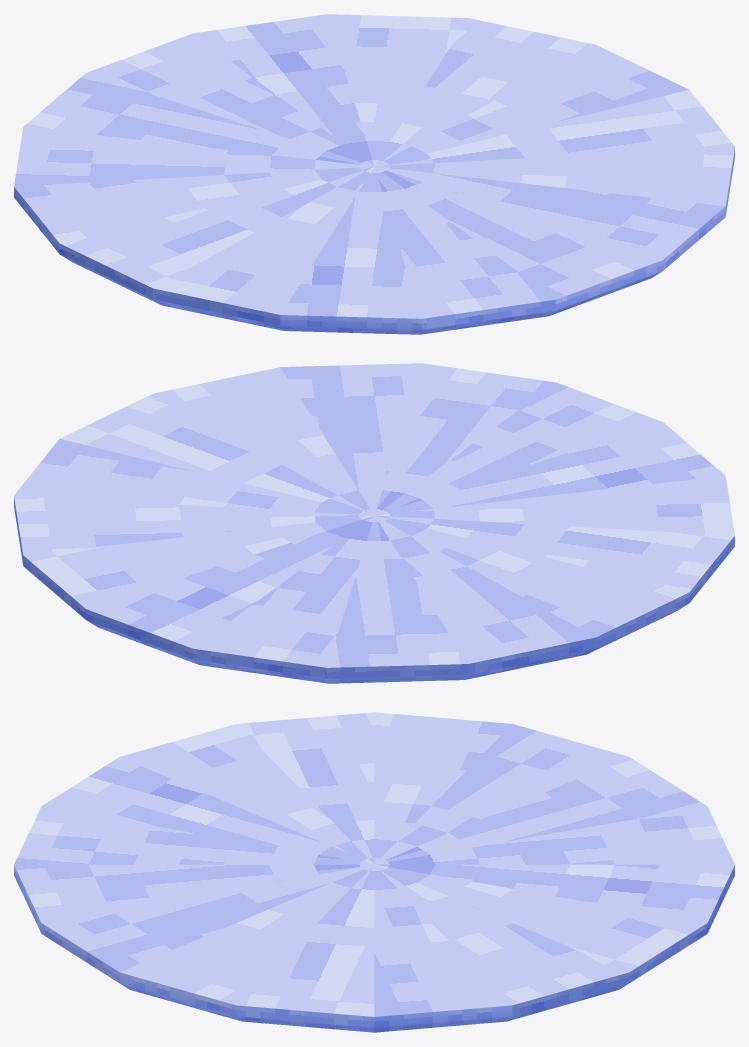
File: arch.floor_module.glb
3 views of the same model, one above another, from view 1: azimuth 30°, elevation 25°; view 2: azimuth 150°, elevation 25°; view 3: azimuth 270°, elevation 25° (orthographic).
Visible parts, largest first — view 1: kit_floor; view 2: kit_floor; view 3: kit_floor.
Boxes of the visible parts, <box> form: kit_floor: <box>14,14,734,334</box>; kit_floor: <box>14,363,734,683</box>; kit_floor: <box>14,712,734,1032</box>.
Bounding box in the file's own units: 3 × 0.1 × 3.
1 material, 1 textured.
